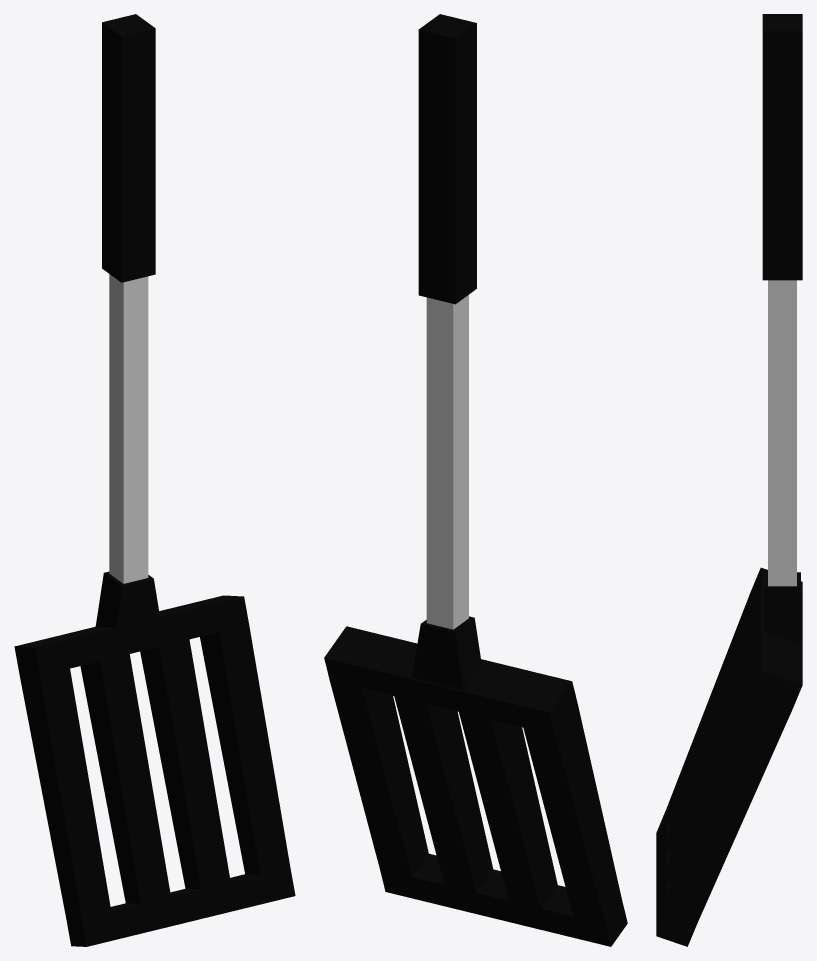
The model's file is fritterTender5_PLY.fbx.
The picture shows the model from 3 angles, left to right: view 1: azimuth 30°, elevation 25°; view 2: azimuth 150°, elevation 25°; view 3: azimuth 270°, elevation 25°; orthographic projection. The views are drawn at different scales.
Parts seen in each view (by area): view 1: fritterTender5_PLY; view 2: fritterTender5_PLY; view 3: fritterTender5_PLY.
Boxes of the visible parts, <box> form: fritterTender5_PLY: <box>14,14,295,946</box>; fritterTender5_PLY: <box>324,14,627,946</box>; fritterTender5_PLY: <box>656,14,802,946</box>.
Bounding box in the file's own units: 0.3784 × 1.49 × 0.2262.
